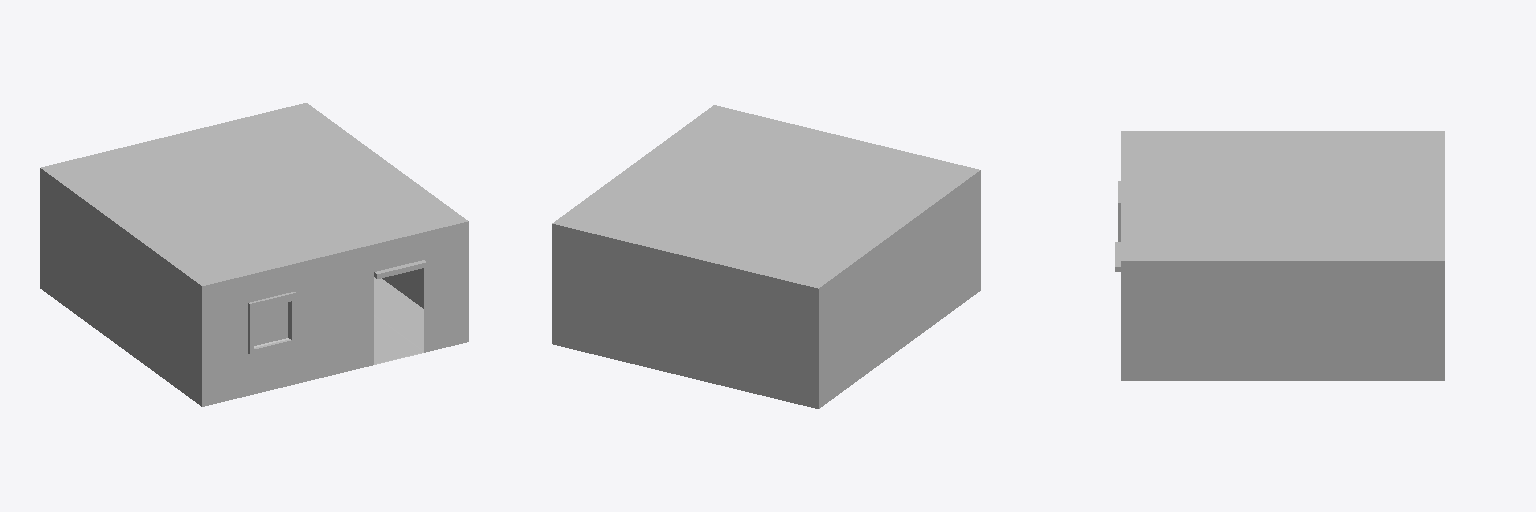
File: squareHouse_NoDoor.obj
3 renders of one model, left to right at view 1: azimuth 30°, elevation 25°; view 2: azimuth 150°, elevation 25°; view 3: azimuth 270°, elevation 25°, orthographic.
Parts seen in each view (by area): view 1: Cube; view 2: Cube; view 3: Cube.
Boxes of the visible parts, box(x1,y1,x2,y2) form: Cube: box(40, 103, 468, 406); Cube: box(552, 105, 980, 408); Cube: box(1115, 131, 1444, 380).
Size of the model in its own units: 3.74 by 1.62 by 4.01.